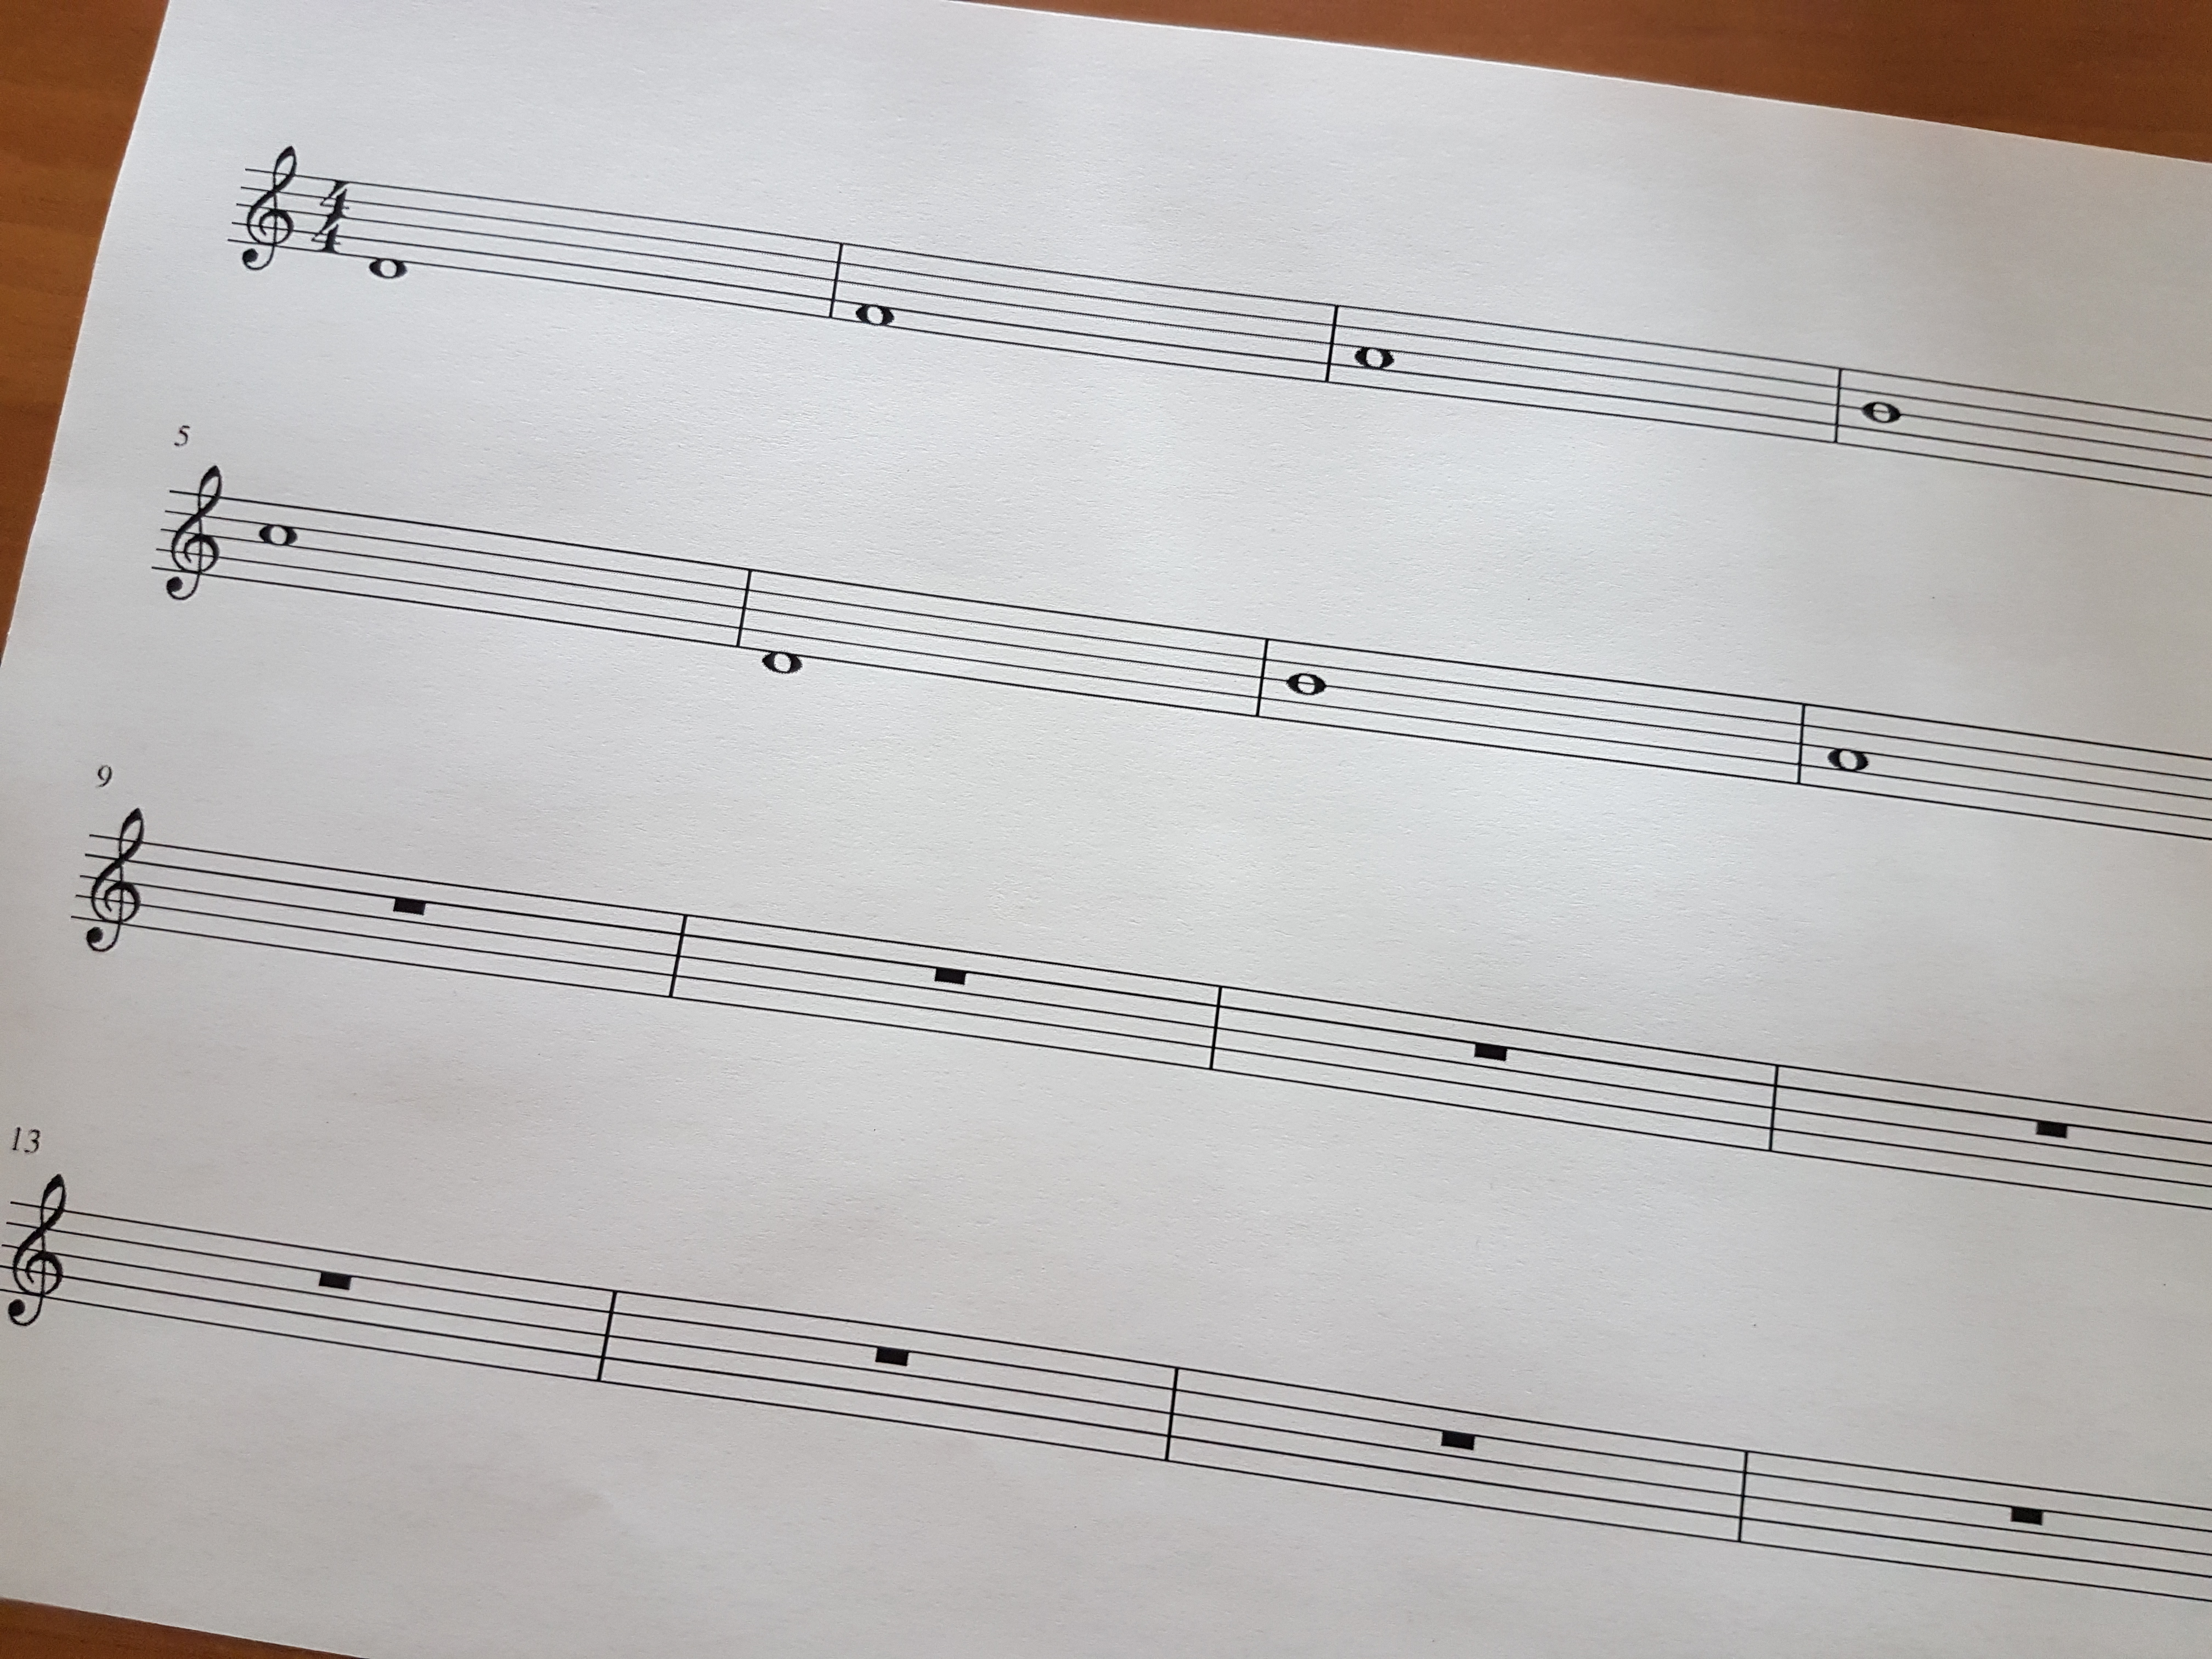key: (75, 798, 148, 976), (7, 1166, 77, 1345), (157, 453, 228, 626), (235, 127, 303, 293)
pipe: (589, 1272, 625, 1406), (1153, 1342, 1188, 1481), (1728, 1427, 1759, 1561), (1200, 969, 1231, 1086), (1759, 1049, 1787, 1173), (658, 892, 686, 1014), (1787, 680, 1811, 802), (1822, 347, 1848, 460), (1249, 617, 1275, 730), (1317, 288, 1343, 399), (732, 551, 754, 671), (824, 228, 845, 342)
semibreve_a: (1815, 683, 1876, 831), (1345, 282, 1400, 423)
semibreve_c: (246, 476, 310, 619)
semibreve_d: (359, 160, 415, 321), (758, 549, 812, 708)
semibreve_f: (852, 218, 902, 380)
semibreve_h: (1280, 619, 1331, 763), (1855, 347, 1905, 481)
